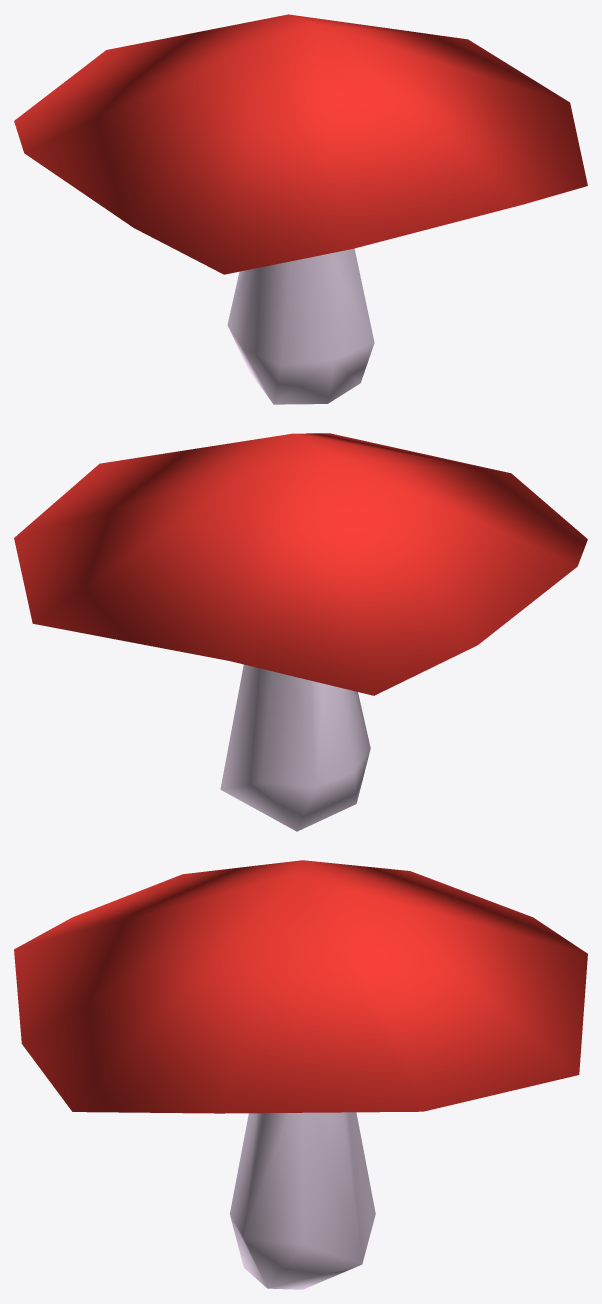
Rendered from Dense Forest Mushroom.fbx.
3 views of the same model, one above another, from view 1: azimuth 30°, elevation 25°; view 2: azimuth 150°, elevation 25°; view 3: azimuth 270°, elevation 25° (orthographic). The views are drawn at different scales.
Visible parts, largest first — view 1: Dense Forest Mushroom 1.001; view 2: Dense Forest Mushroom 1.001; view 3: Dense Forest Mushroom 1.001.
Boxes of the visible parts, x1,y1,x2,y2 form: Dense Forest Mushroom 1.001: (14,14,587,404); Dense Forest Mushroom 1.001: (14,433,587,831); Dense Forest Mushroom 1.001: (14,860,587,1289).
Size of the model in its own units: 120 by 95.65 by 119.
